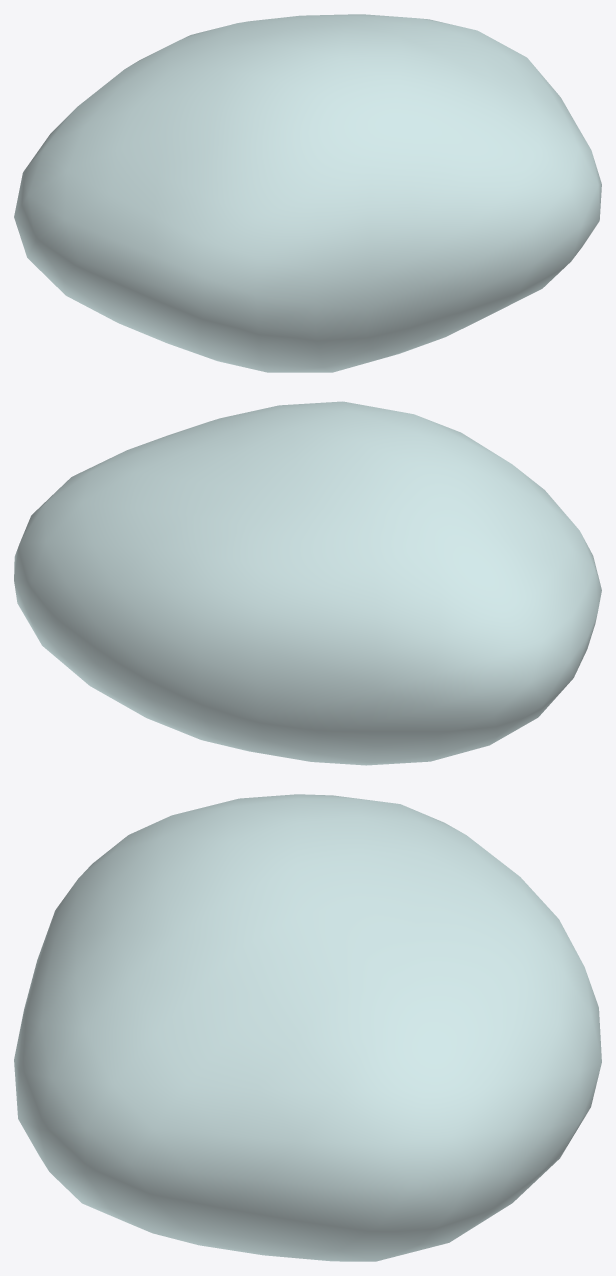
Rendered from smithsonite.glb.
The picture shows the model from 3 angles, top to bottom: view 1: azimuth 30°, elevation 25°; view 2: azimuth 150°, elevation 25°; view 3: azimuth 270°, elevation 25°; orthographic projection. The views are drawn at different scales.
Visible parts, largest first — view 1: smithsonite; view 2: smithsonite; view 3: smithsonite.
Boxes of the visible parts, x1=… form: smithsonite: x1=14, y1=14, x2=601, y2=372; smithsonite: x1=14, y1=401, x2=601, y2=765; smithsonite: x1=14, y1=794, x2=601, y2=1261.
Bounding box in the file's own units: 0.25 × 0.1382 × 0.1973.
